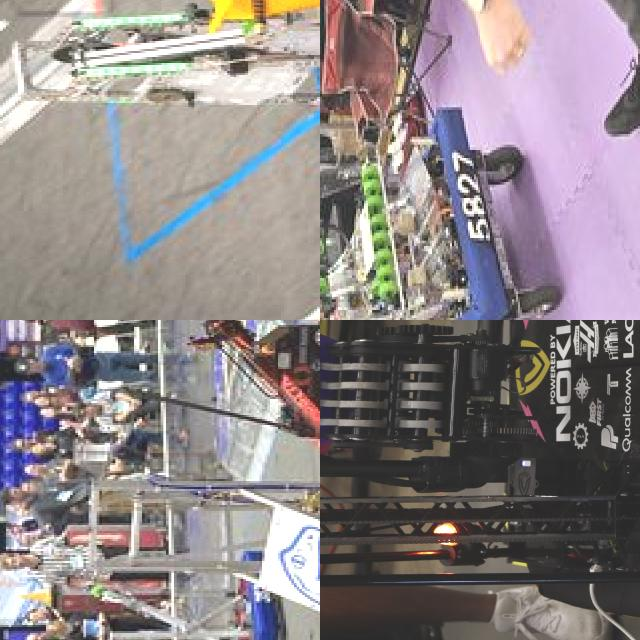FRC-Robots: (320, 320, 640, 640), (0, 0, 320, 184), (320, 93, 510, 320), (89, 545, 263, 640), (186, 320, 320, 442), (243, 444, 320, 640)
